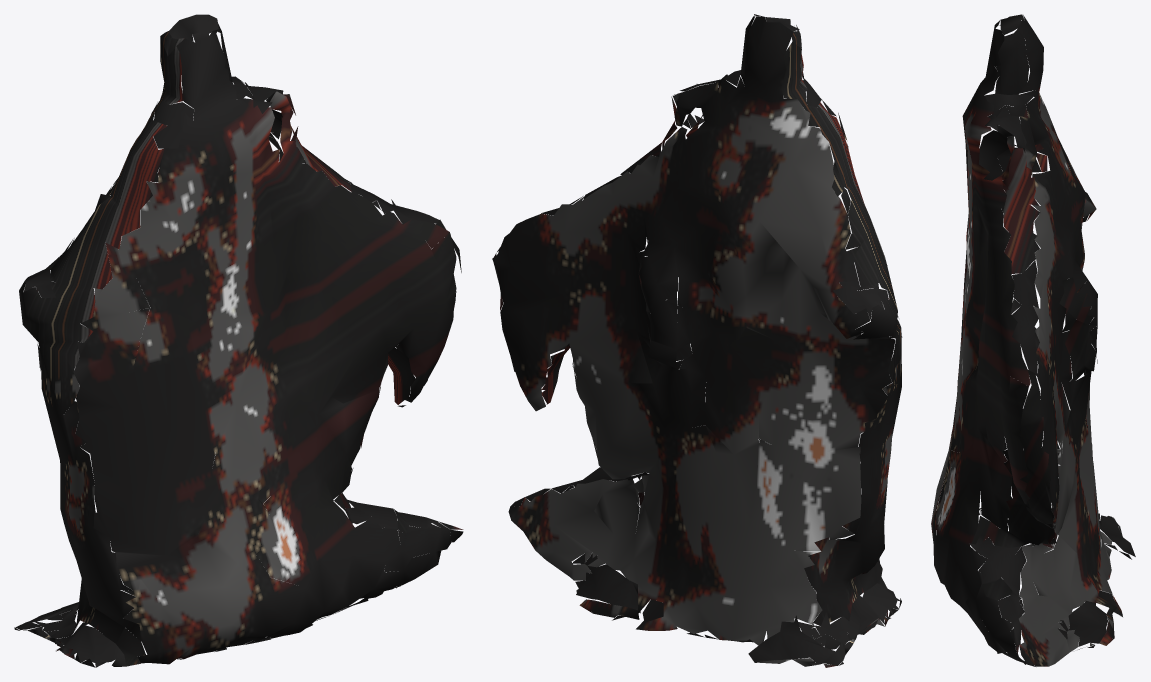
3 renders of one model, left to right at view 1: azimuth 30°, elevation 25°; view 2: azimuth 150°, elevation 25°; view 3: azimuth 270°, elevation 25°, orthographic. The views are drawn at different scales.
Visible parts, largest first — view 1: body.002; view 2: body.002; view 3: body.002.
Boxes of the visible parts, left/top/right/bottom form: body.002: left=14, top=14, right=463, bottom=667; body.002: left=492, top=14, right=902, bottom=667; body.002: left=931, top=14, right=1135, bottom=666.
Bounding box in the file's own units: 1.44 × 2.01 × 0.6632.
Materials: 1 (1 with a texture image).
